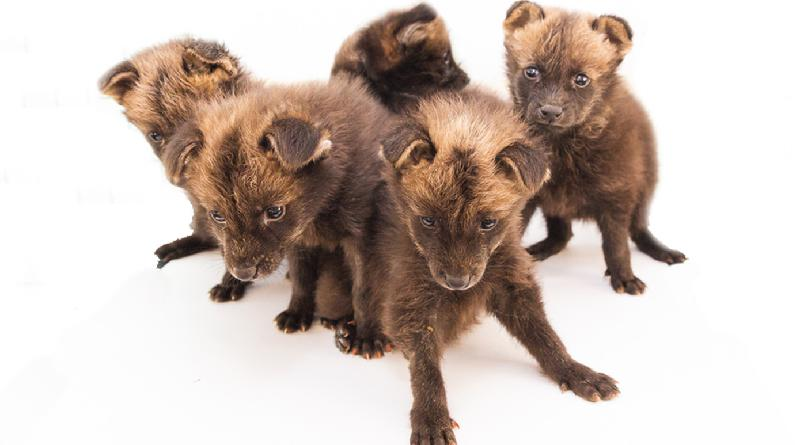LoboGuara: (388, 101, 622, 425), (179, 88, 395, 369), (496, 2, 696, 301), (105, 35, 236, 287), (310, 4, 474, 100)
